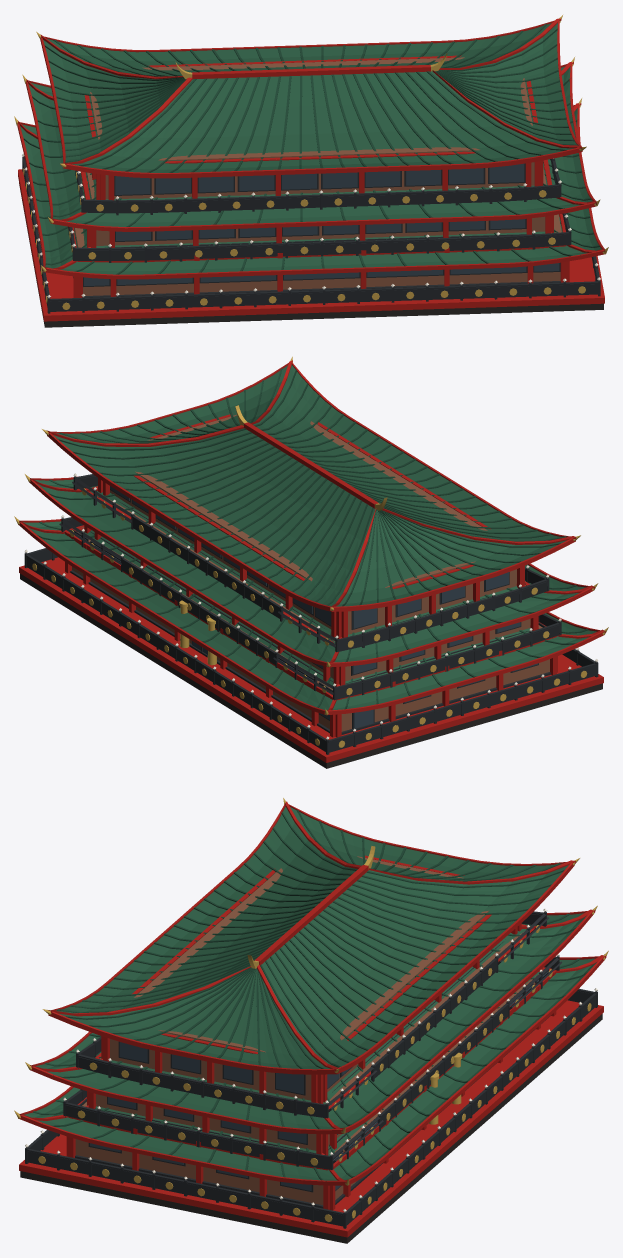
File: sea-palace.glb
3 renders of one model, top to bottom at view 1: azimuth 30°, elevation 25°; view 2: azimuth 150°, elevation 25°; view 3: azimuth 270°, elevation 25°, orthographic. The views are drawn at different scales.
Parts seen in each view (by area): view 1: sea-palace; view 2: sea-palace; view 3: sea-palace.
Part boxes in pixels (x1,y1,x2,y2): sea-palace: [14, 15, 608, 327]; sea-palace: [14, 356, 608, 768]; sea-palace: [14, 798, 608, 1243].
Size of the model in its own units: 46.27 by 14.4 by 39.27.
